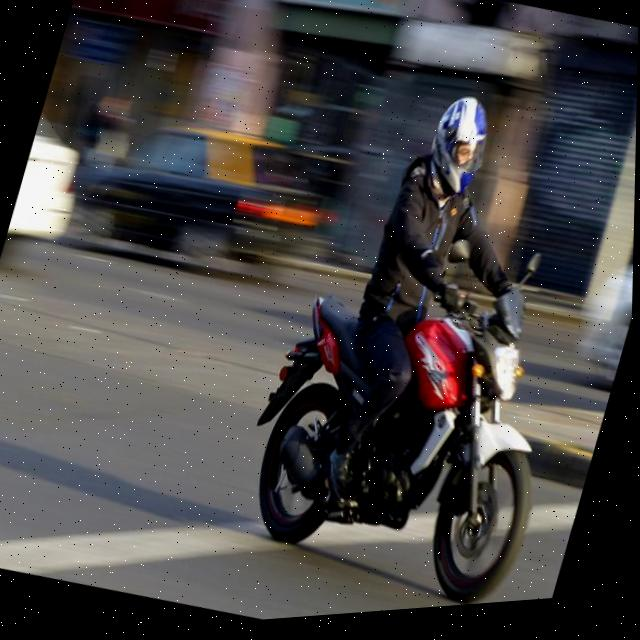motorcycle: (200, 216, 604, 624)
